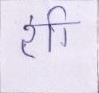i_matra: (51, 5, 73, 46)
